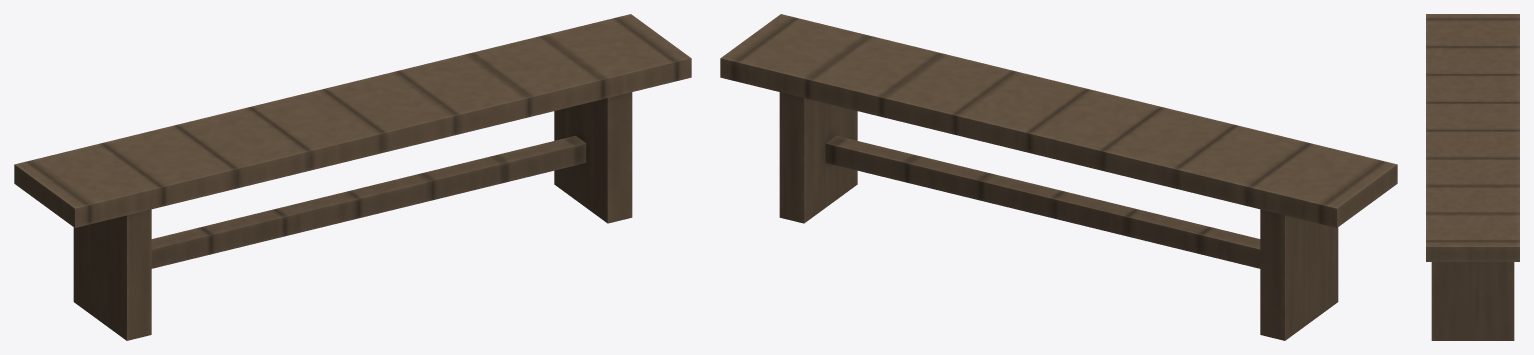
The model's file is banc.fbx.
The picture shows the model from 3 angles, left to right: view 1: azimuth 30°, elevation 25°; view 2: azimuth 150°, elevation 25°; view 3: azimuth 270°, elevation 25°; orthographic projection. The views are drawn at different scales.
Visible parts, largest first — view 1: banc; view 2: banc; view 3: banc.
Boxes of the visible parts, box(x1,y1,x2,y2) form: banc: box(14, 14, 691, 340); banc: box(720, 14, 1397, 340); banc: box(1426, 14, 1519, 340).
Bounding box in the file's own units: 2 × 0.46 × 0.34.
1 material, 1 textured.
